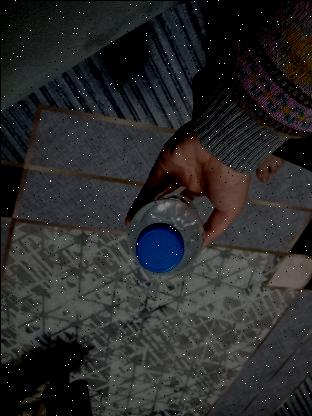Plastic Bottle: (117, 194, 217, 278)
